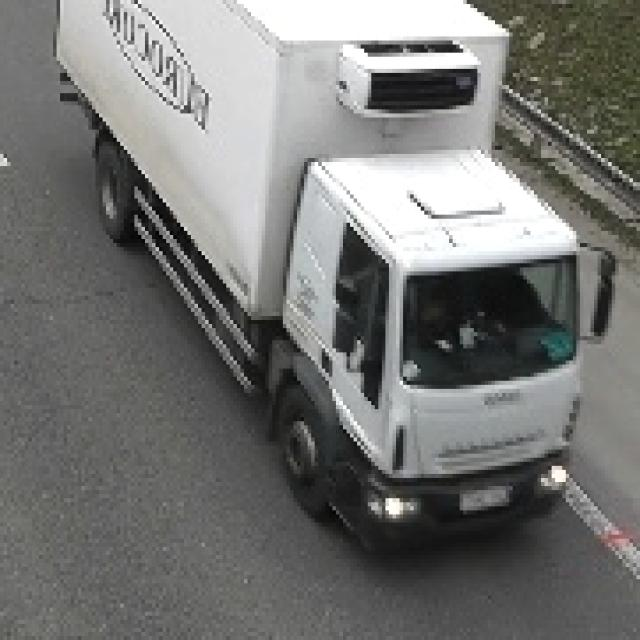truck: (51, 1, 616, 560)
